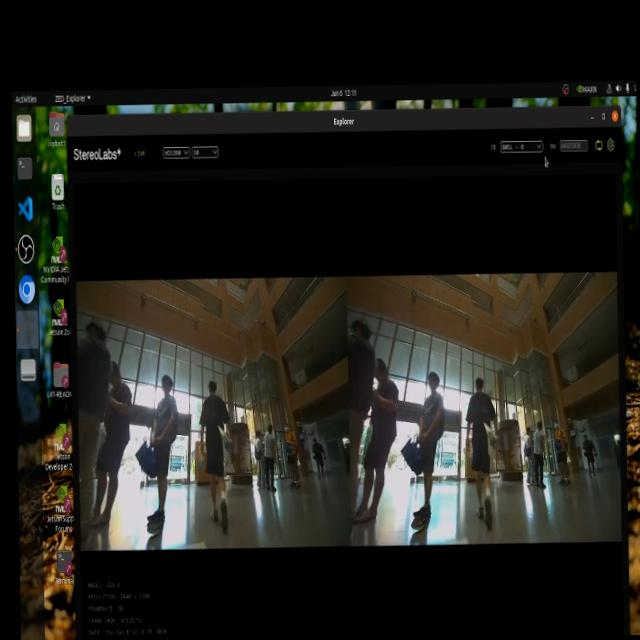green: (484, 429, 499, 458), (220, 434, 232, 462)
